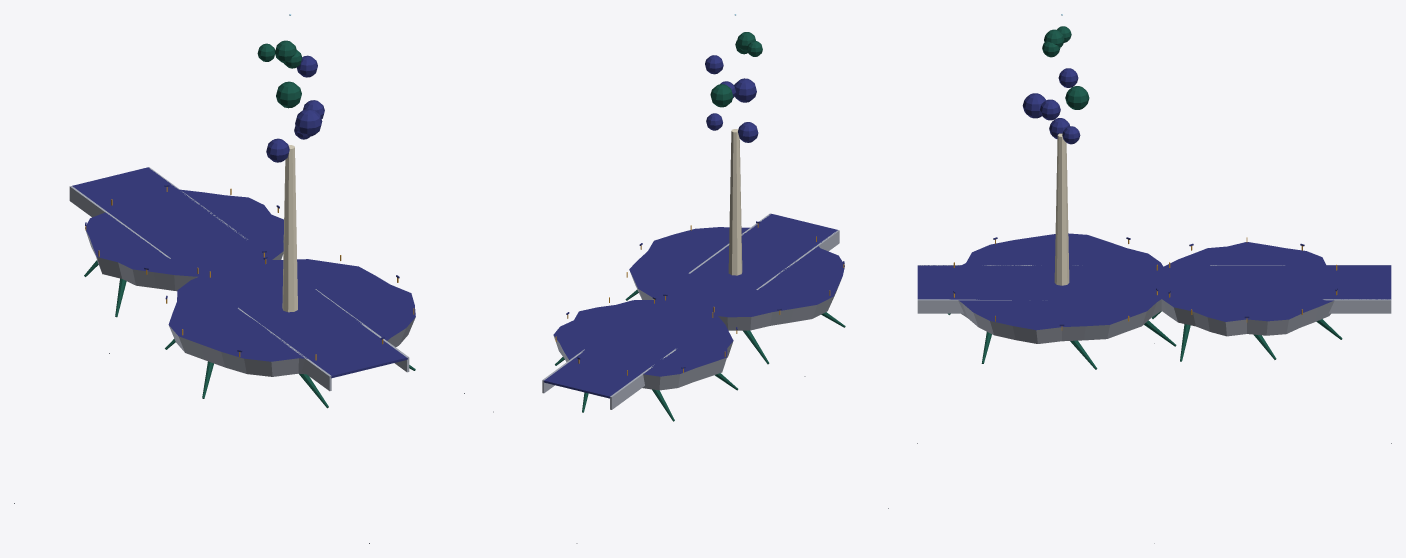
The model's file is chunk_es_hanging_garden.fbx.
3 views of the same model, side by side, from view 1: azimuth 30°, elevation 25°; view 2: azimuth 150°, elevation 25°; view 3: azimuth 270°, elevation 25° (orthographic). The views are drawn at different scales.
Parts seen in each view (by area): view 1: ES_HANGING_GARDEN; view 2: ES_HANGING_GARDEN; view 3: ES_HANGING_GARDEN.
Part boxes in pixels (x1=…): ES_HANGING_GARDEN: x1=14, y1=14, x2=464, y2=543; ES_HANGING_GARDEN: x1=493, y1=14, x2=888, y2=543; ES_HANGING_GARDEN: x1=917, y1=14, x2=1391, y2=543.
Bounding box in the file's own units: 256 × 256 × 256.
